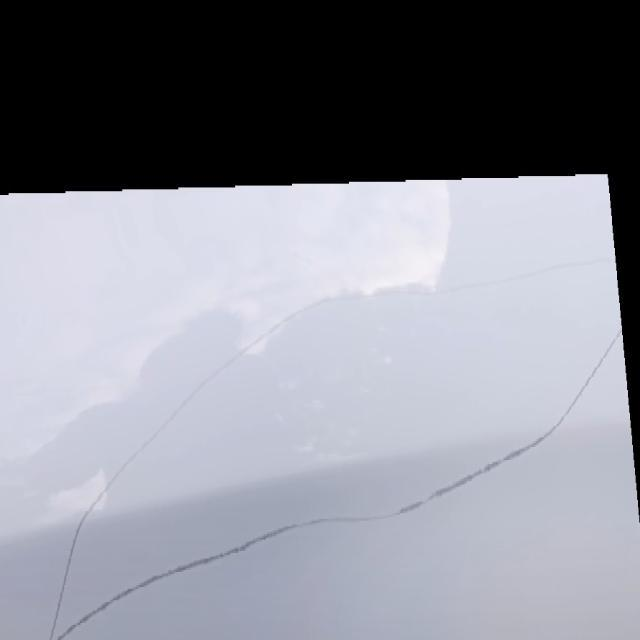crack: (85, 240, 528, 513), (105, 435, 516, 617)
